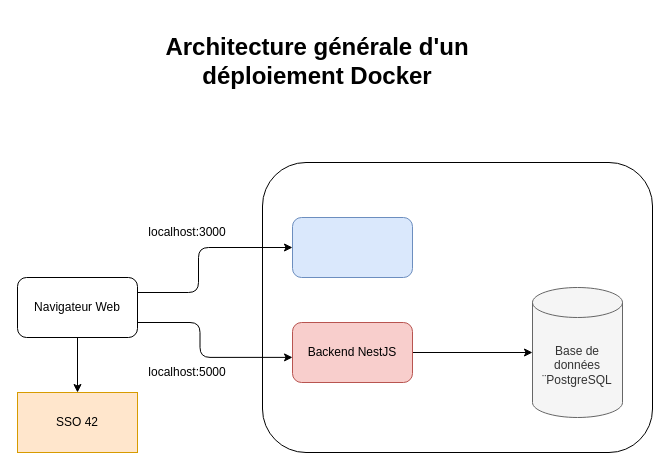
This 670x470 diagram has some shape labels left out. The box of each missing label's shape, as (x1, y1, x2, y2) in pixels:
Frontend React: (292, 216, 412, 278)
Réseau docker compose: (262, 162, 652, 452)
